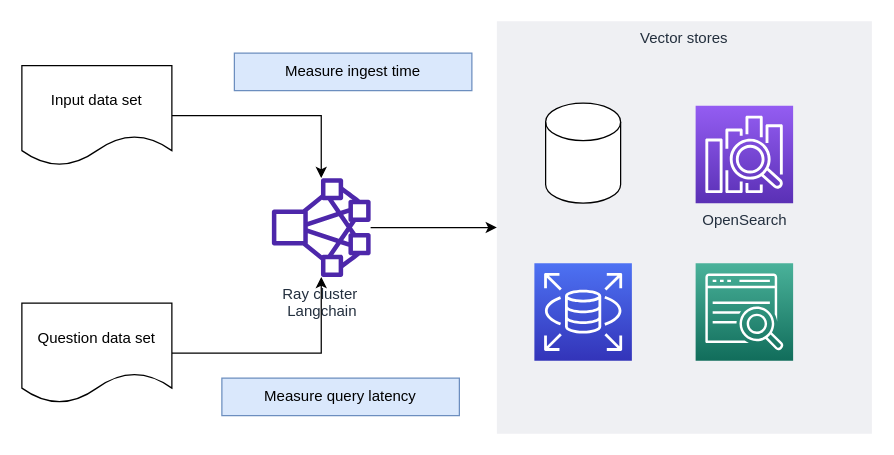
This 894x455 diagram has some shape labels left out. The box of each missing label's shape, as (x1, y1, x2, y2) in pixels:
Kendra: (694, 262, 793, 361)
Pinecone: (544, 102, 621, 203)
RDS PostgreSQL pgvector: (533, 262, 632, 361)
